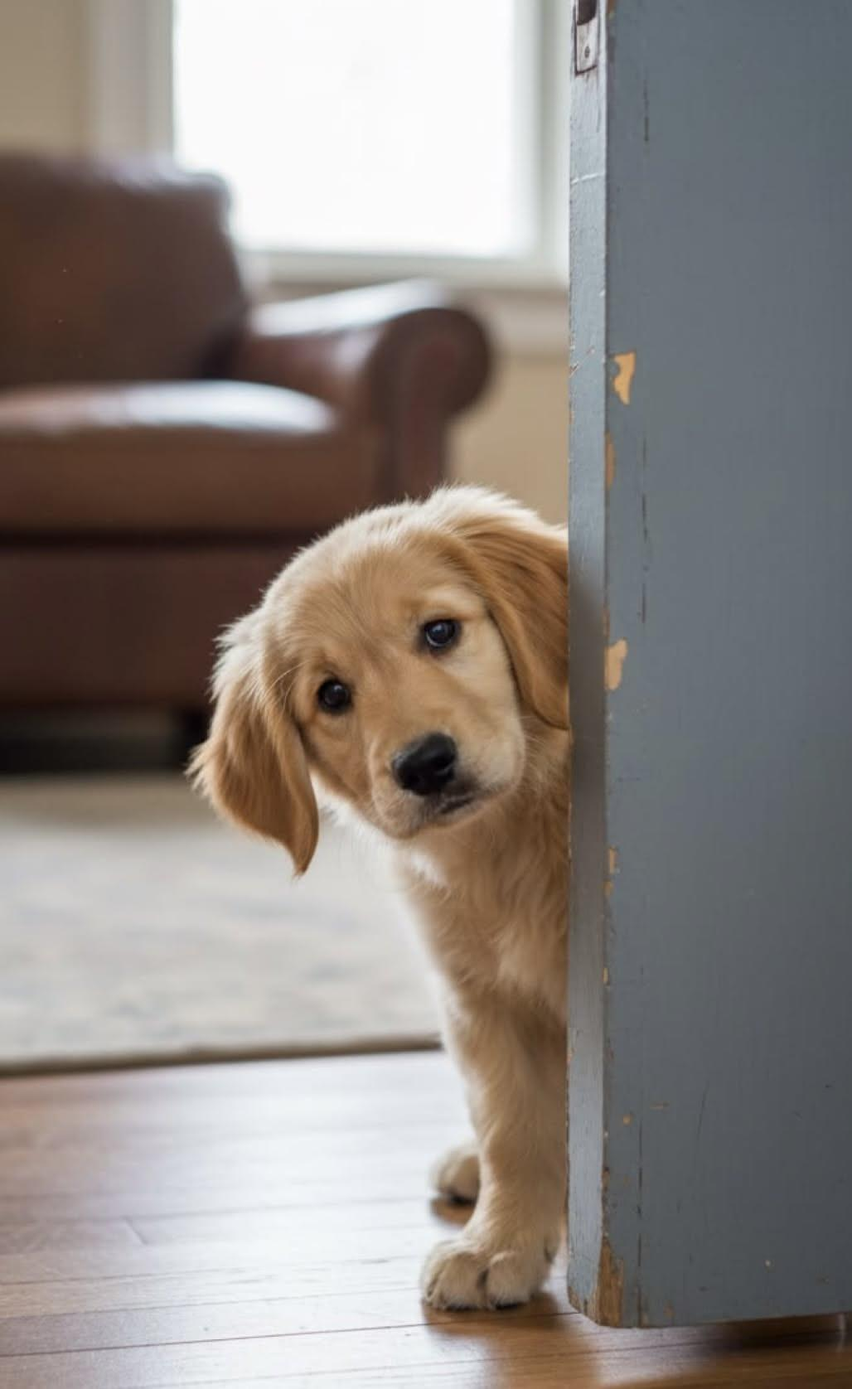puppy-dog: (189, 486, 574, 1311)
